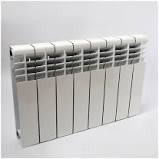Radiator: (8, 32, 148, 148)
